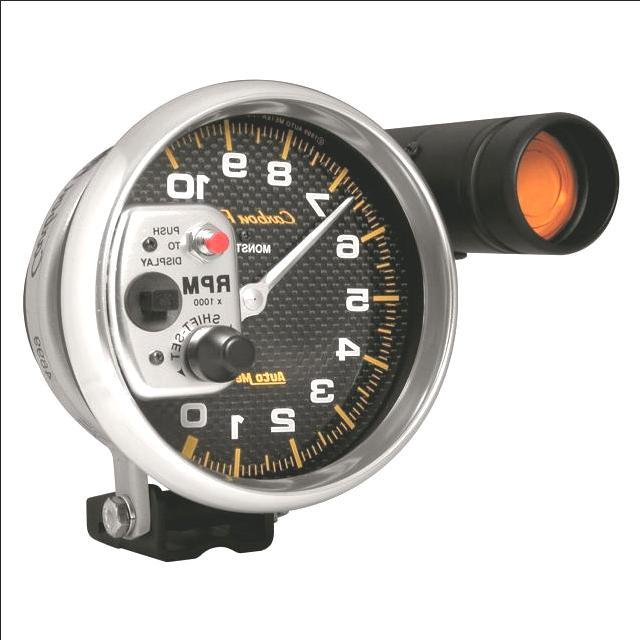Needle_Tip: (313, 189, 362, 231)
Needle_base: (217, 261, 292, 333)
max_value: (149, 160, 222, 215)
min_value: (170, 398, 225, 449)
